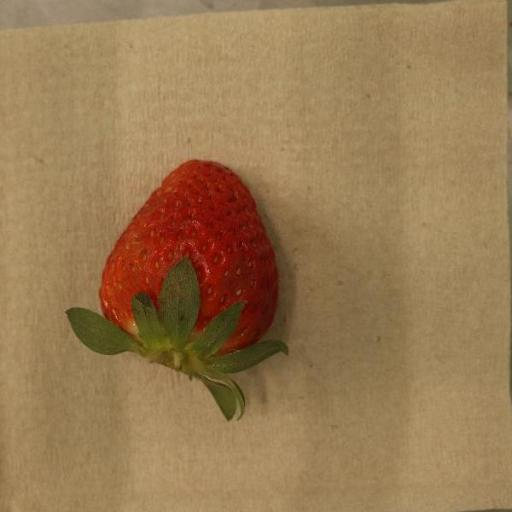Strawberry: (66, 160, 290, 423)
